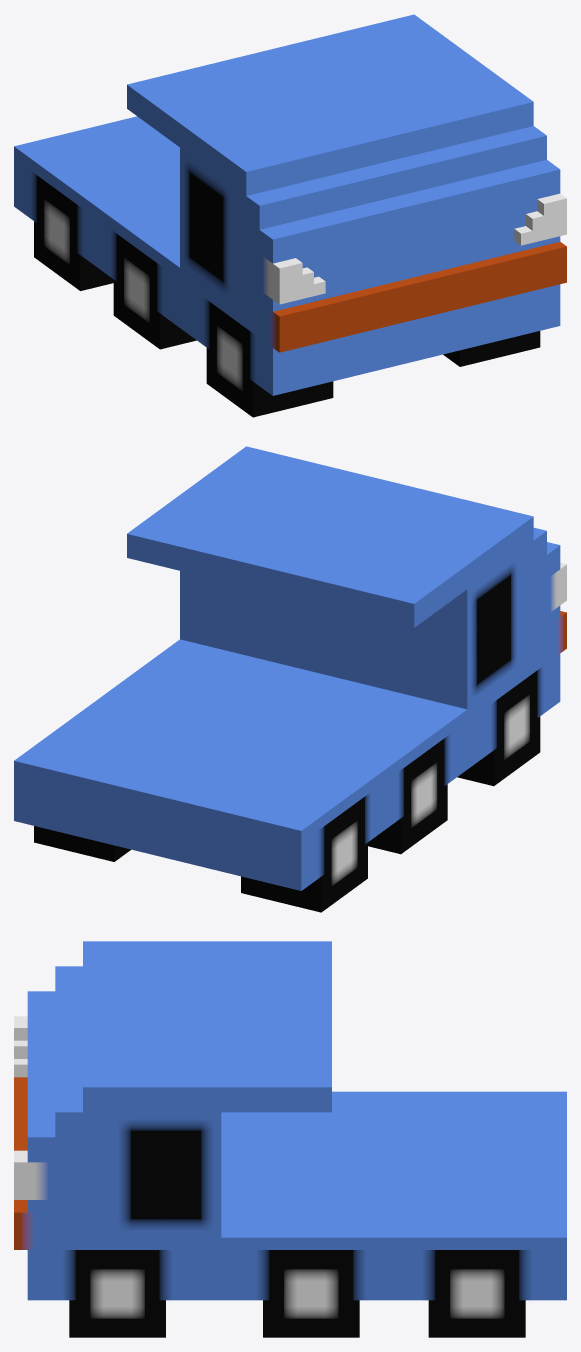
File: Car_4.fbx
3 renders of one model, top to bottom at view 1: azimuth 30°, elevation 25°; view 2: azimuth 150°, elevation 25°; view 3: azimuth 270°, elevation 25°, orthographic. The views are drawn at different scales.
Parts seen in each view (by area): view 1: Car_4; view 2: Car_4; view 3: Car_4.
Boxes of the visible parts, <box> form: Car_4: <box>14,14,566,417</box>; Car_4: <box>14,446,566,912</box>; Car_4: <box>14,941,566,1337</box>.
Bounding box in the file's own units: 25 × 20 × 40.
1 material, 1 textured.
